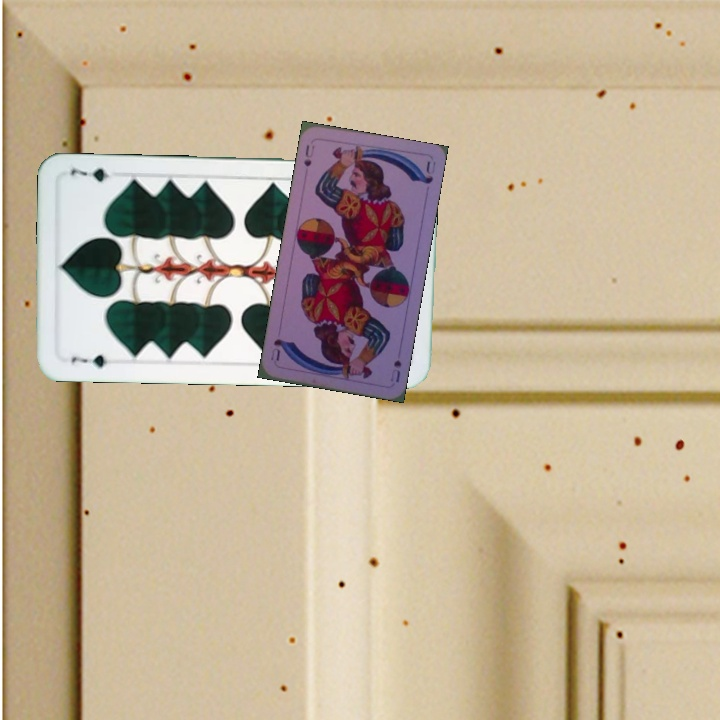G7: (67, 351, 110, 370)
SU: (387, 356, 404, 385), (300, 141, 317, 169)
